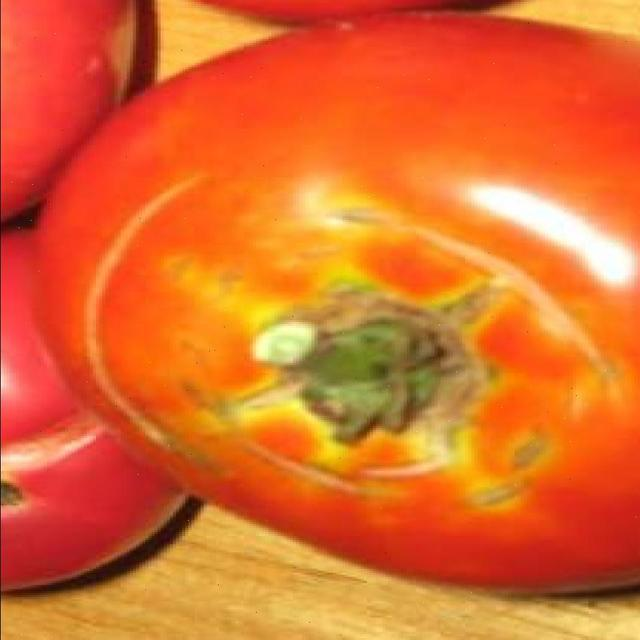Cracking Fruit: (36, 61, 329, 313)
